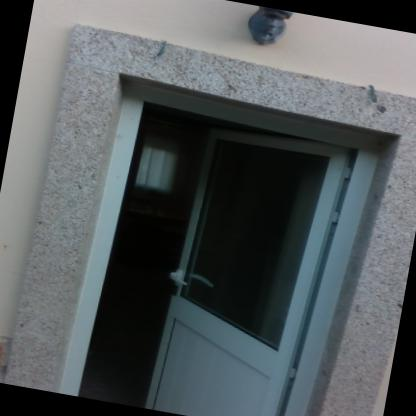semi: (66, 63, 384, 415)
